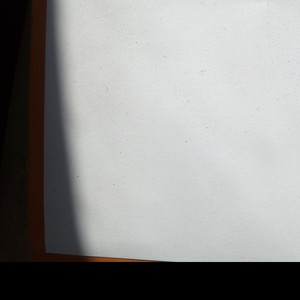base: (47, 1, 299, 254)
